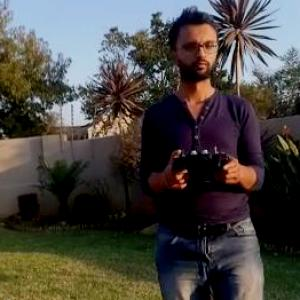follow: (134, 0, 270, 299)
